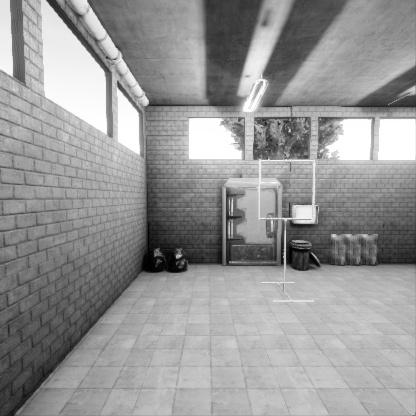gate: (258, 198, 319, 258)
